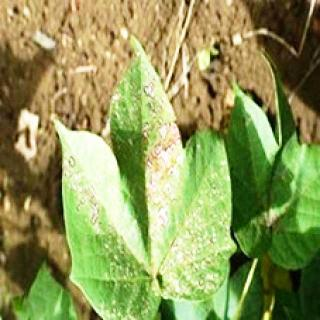grey mildew: (52, 39, 236, 320)
